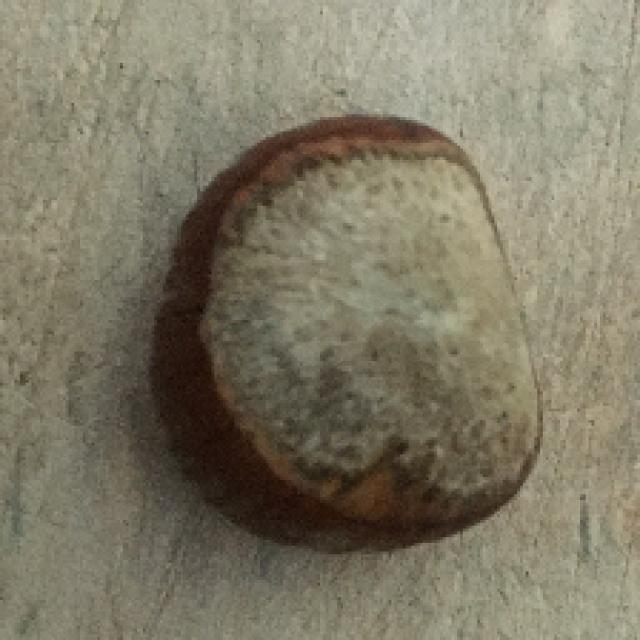QualityHazelnut: (145, 113, 545, 558)
